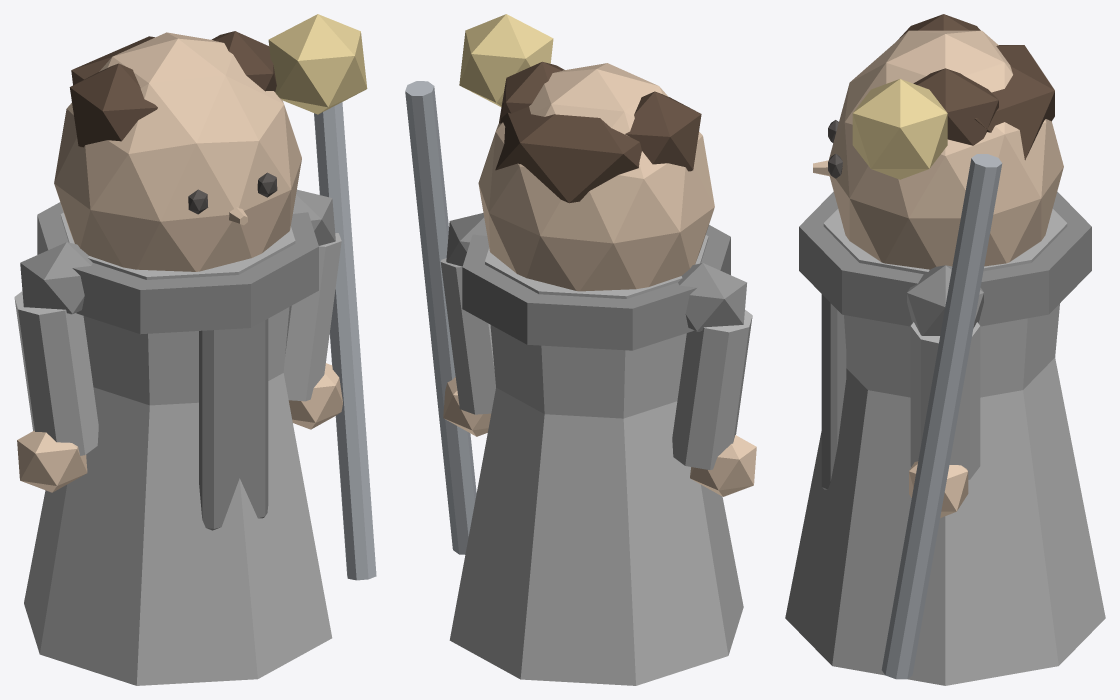
Rendered from minihero-caster.glb.
The picture shows the model from 3 angles, left to right: view 1: azimuth 30°, elevation 25°; view 2: azimuth 150°, elevation 25°; view 3: azimuth 270°, elevation 25°; orthographic projection. The views are drawn at different scales.
Parts seen in each view (by area): view 1: robe, head, mantle, tabard, staff_pole, upper_robe, caster_arm.001, staff_orb, caster_arm, hair_left, caster_shoulder.001, caster_hand.001 (+4 smaller); view 2: robe, head, upper_robe, mantle, staff_pole, hair_back, caster_arm.001, staff_orb, caster_arm, hair_left, caster_shoulder.001, caster_hand.001 (+3 smaller); view 3: robe, head, staff_pole, mantle, upper_robe, staff_orb, caster_arm, hair_back, tabard, hair_right, caster_shoulder, caster_hand (+1 smaller).
Boxes of the visible parts, x1,y1,x2,y2 form: robe: [24, 373, 332, 685]; head: [54, 32, 301, 271]; mantle: [37, 202, 318, 334]; tabard: [199, 319, 268, 530]; staff_pole: [314, 102, 376, 580]; upper_robe: [60, 212, 295, 405]; caster_arm.001: [14, 291, 98, 455]; staff_orb: [268, 14, 367, 114]; caster_arm: [283, 233, 341, 401]; hair_left: [69, 63, 157, 147]; caster_shoulder.001: [20, 242, 92, 314]; caster_hand.001: [17, 430, 87, 492]; robe: [449, 387, 743, 685]; head: [478, 63, 714, 291]; upper_robe: [485, 235, 708, 418]; mantle: [462, 225, 730, 350]; staff_pole: [405, 81, 476, 554]; hair_back: [495, 102, 641, 203]; caster_arm.001: [672, 310, 752, 469]; staff_orb: [459, 14, 553, 107]; caster_arm: [440, 258, 495, 414]; hair_left: [625, 91, 701, 171]; caster_shoulder.001: [678, 263, 746, 331]; caster_hand.001: [690, 435, 756, 496]; robe: [785, 357, 1105, 685]; head: [829, 30, 1063, 269]; staff_pole: [881, 154, 1002, 679]; mantle: [799, 192, 1091, 326]; upper_robe: [823, 209, 1067, 397]; staff_orb: [852, 79, 947, 179]; caster_arm: [910, 322, 980, 479]; hair_back: [974, 45, 1054, 160]; tabard: [821, 294, 846, 489]; hair_right: [913, 68, 998, 145]; caster_shoulder: [907, 265, 983, 335]; caster_hand: [909, 461, 968, 517].
Size of the model in its own units: 1.13 by 1.89 by 0.92.
